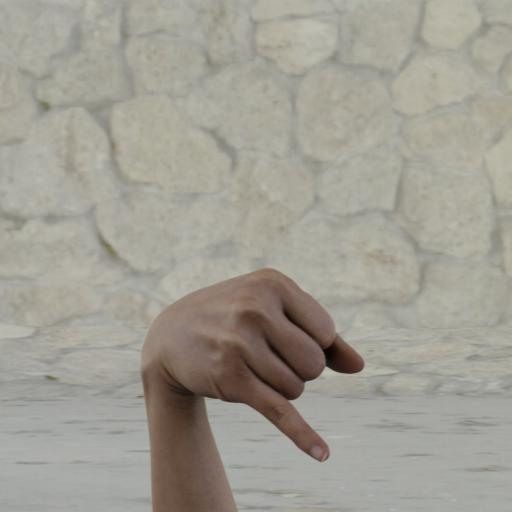J: (136, 258, 369, 467)
